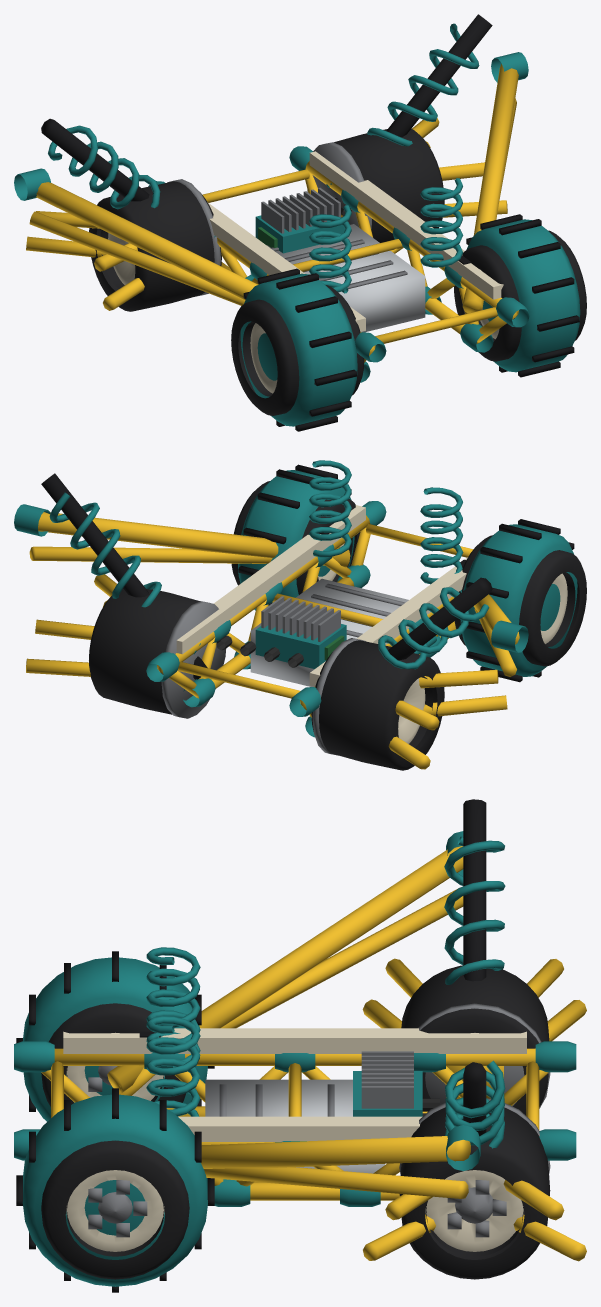
Rendered from solana_m06.glb.
3 views of the same model, one above another, from view 1: azimuth 30°, elevation 25°; view 2: azimuth 150°, elevation 25°; view 3: azimuth 270°, elevation 25° (orthographic). The views are drawn at different scales.
Parts seen in each view (by area): view 1: corner_BL, wheel_BL_motor, wheel_BR_motor, wheel_FL, corner_FL, corner_FR, corner_BR, cassette, wheel_BL, truss_R, wheel_FR, mount_rail_R (+7 smaller); view 2: wheel_FL, corner_BR, corner_FR, corner_FL, wheel_FR, wheel_BL_motor, truss_R, wheel_BL, wheel_BR_motor, controller, corner_BL, mount_rail_R (+7 smaller); view 3: corner_BL, corner_BR, wheel_BR_motor, wheel_BR, wheel_FR, corner_FL, truss_L, mount_rail_L, corner_FR, wheel_BL_motor, wheel_FL, mount_rail_R (+7 smaller).
Part boxes in pixels (box(x1,y1,x2,y2)): corner_BL: box(14, 168, 351, 305); wheel_BL_motor: box(240, 268, 357, 431); wheel_BR_motor: box(466, 214, 580, 377); wheel_FL: box(89, 181, 221, 311); corner_FL: box(26, 118, 220, 310); corner_FR: box(307, 14, 507, 228); corner_BR: box(420, 52, 528, 312); cassette: box(245, 224, 425, 332); wheel_BL: box(231, 285, 364, 415); truss_R: box(289, 146, 529, 352); wheel_FR: box(334, 128, 444, 242); mount_rail_R: box(309, 151, 503, 299); wheel_FL: box(311, 640, 444, 770); corner_BR: box(14, 460, 351, 567); corner_FR: box(26, 473, 225, 718); corner_FL: box(312, 577, 507, 769); wheel_FR: box(89, 588, 199, 714); wheel_BL_motor: box(460, 519, 577, 682); truss_R: box(146, 501, 386, 707); wheel_BL: box(454, 535, 586, 666); wheel_BR_motor: box(238, 464, 354, 610); controller: box(216, 596, 346, 668); corner_BL: box(420, 487, 528, 676); mount_rail_R: box(176, 505, 365, 654); corner_BL: box(107, 831, 463, 1093); corner_BR: box(146, 1016, 480, 1198); wheel_BR_motor: box(16, 1088, 214, 1292); wheel_BR: box(41, 1140, 189, 1279); wheel_FR: box(399, 1107, 550, 1279); corner_FL: box(362, 799, 586, 1108); truss_L: box(14, 1041, 576, 1116); mount_rail_L: box(63, 1028, 526, 1053); corner_FR: box(363, 1060, 586, 1261); wheel_BL_motor: box(16, 951, 214, 1121); wheel_FL: box(401, 965, 549, 1115); mount_rail_R: box(178, 1116, 422, 1141).
Size of the model in its own units: 1.26 by 0.5351 by 0.9885.
